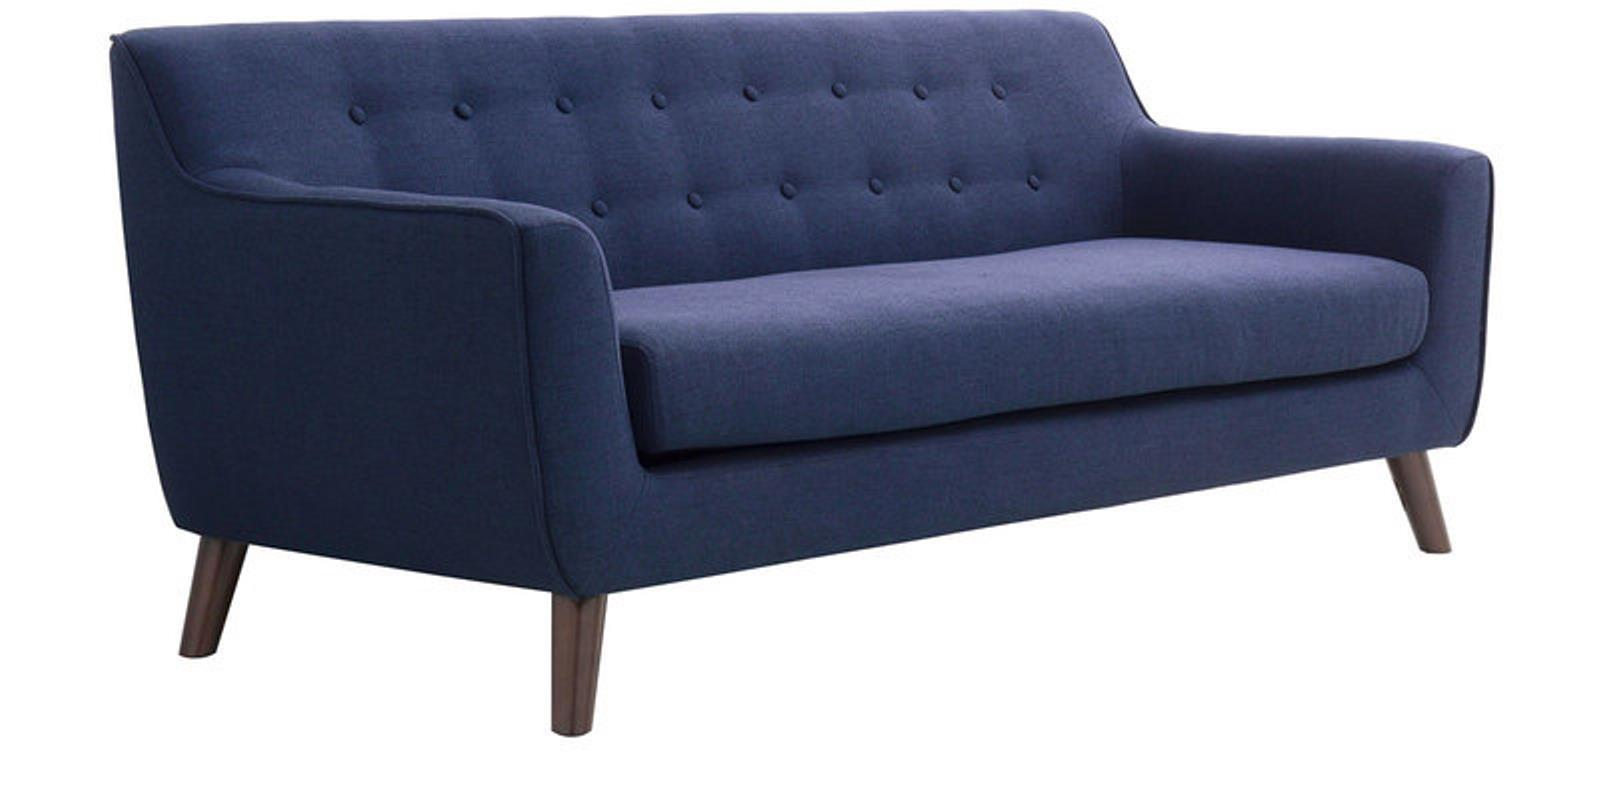Bogota Three Seater Sofa in Blue Colour by CasaCraft: (87, 29, 1556, 641)
